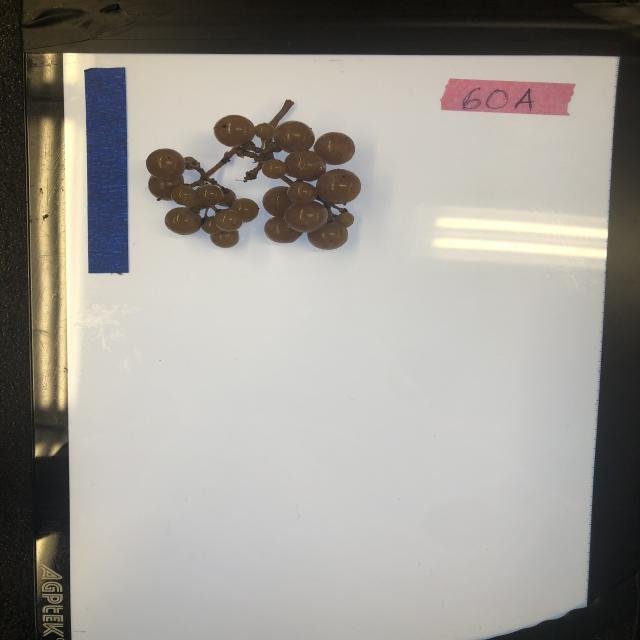grape_cluster: (143, 95, 364, 253)
index: (438, 76, 574, 120)
measure_label: (82, 66, 132, 276)
